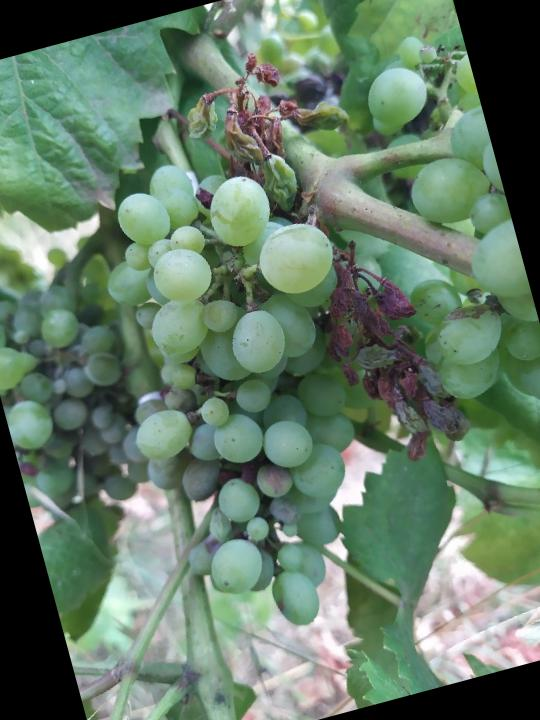grape: (65, 101, 505, 659)
